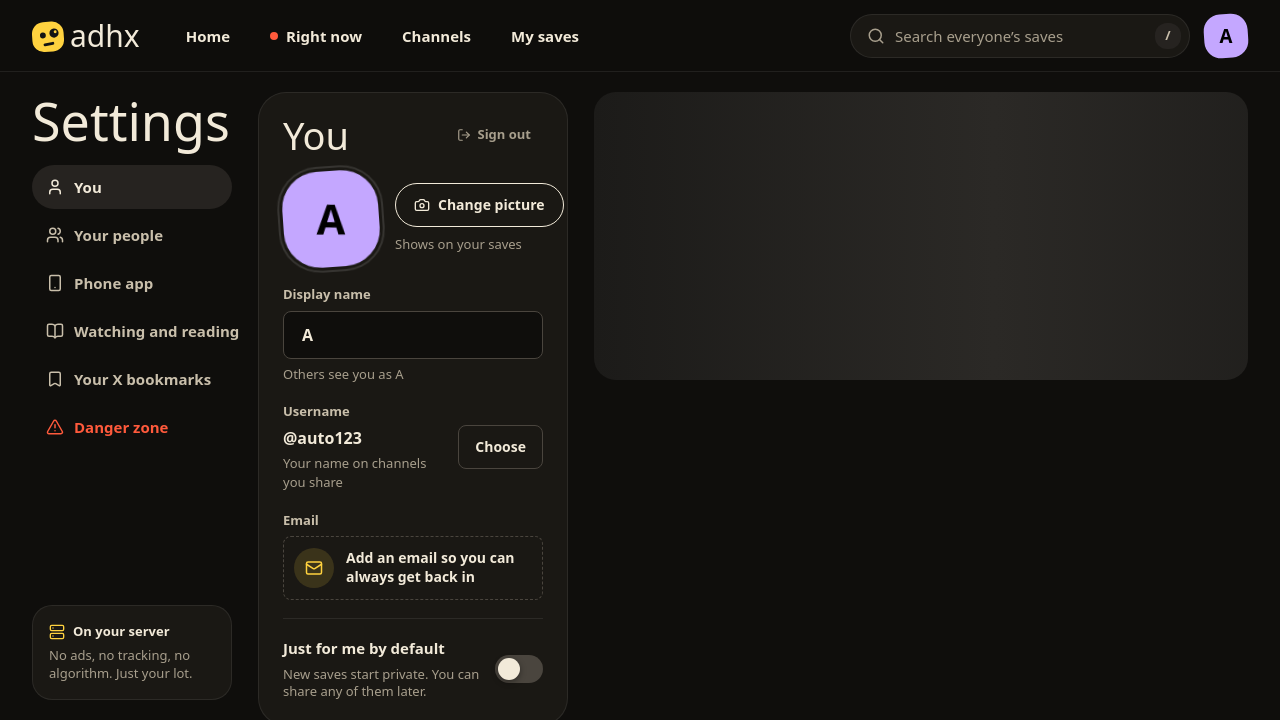
Test case: SettingsClient — Username row › shows live availability feedback in the inline chooser
Expected: the text "@auto123" is shown, [283,426,362,450]
Click the button with aria-label "Choose username": (501, 447) [458,425,543,469]
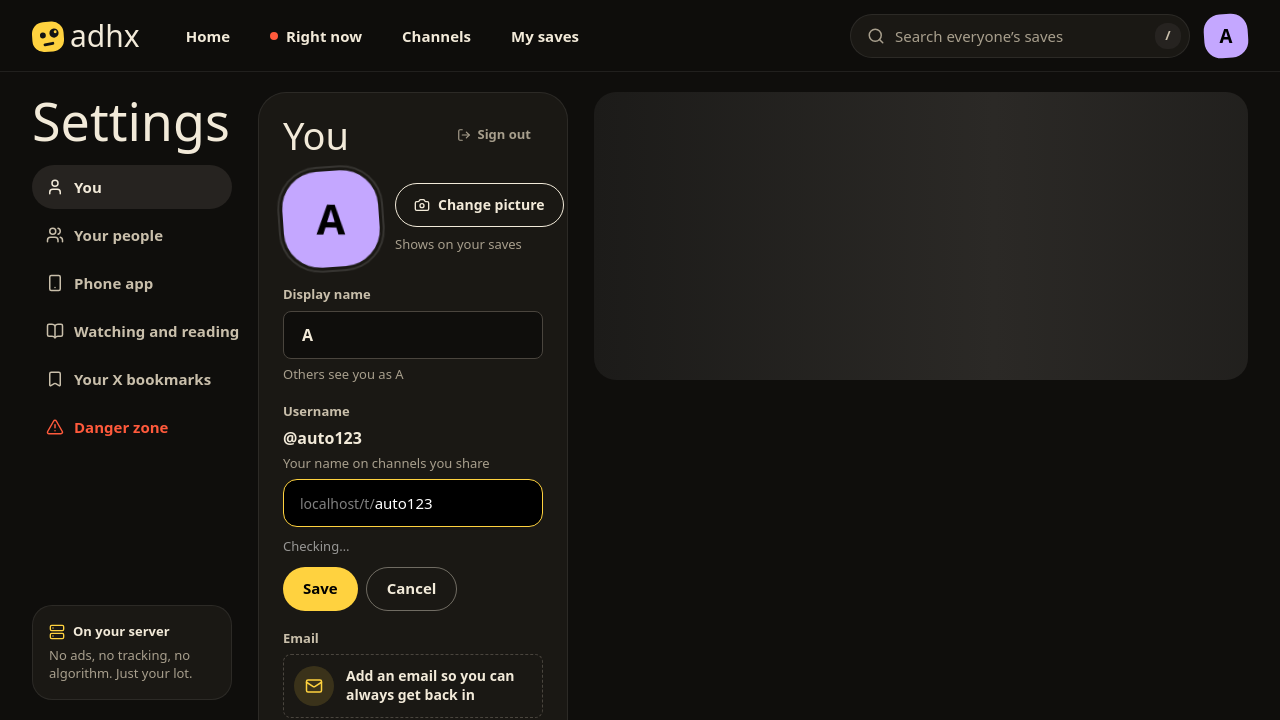
Replace the text in the field named "Username" with "popular": (454, 503) [375,480,534,526]
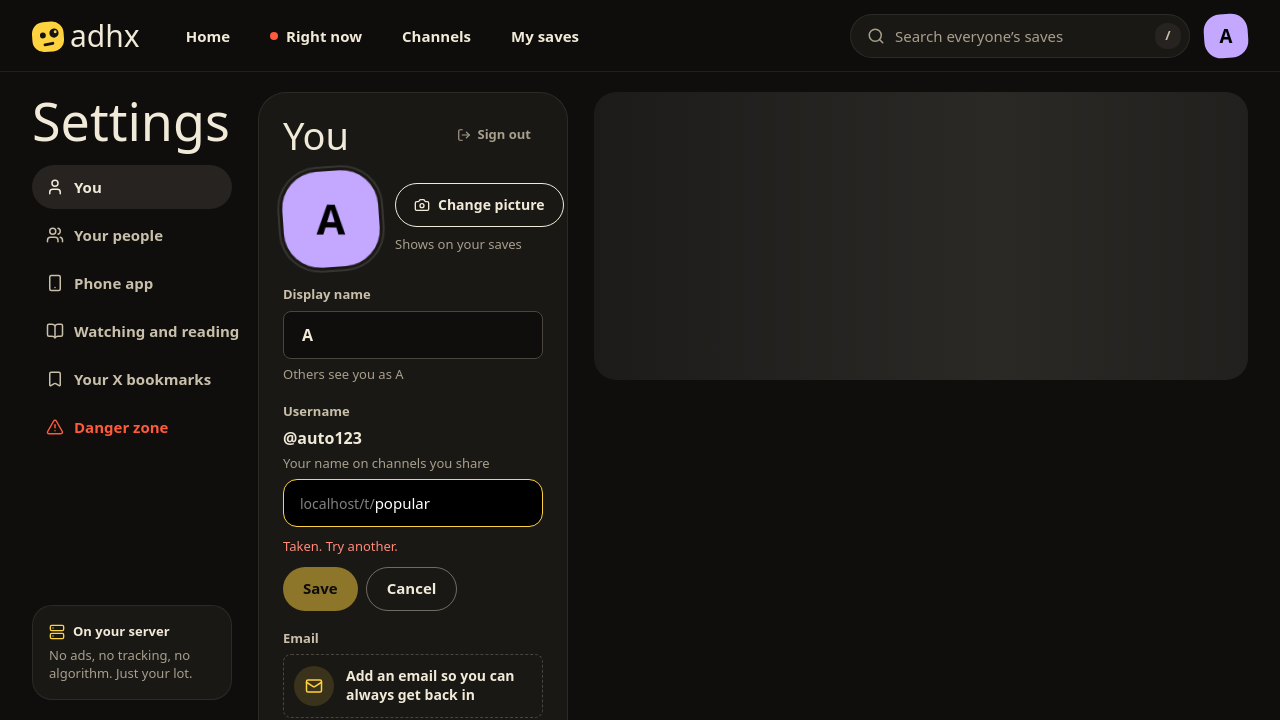
Result: the text "Taken. Try another." is shown at [283,537,398,555]
Result: the button "Save" is disabled at [283,567,358,611]
